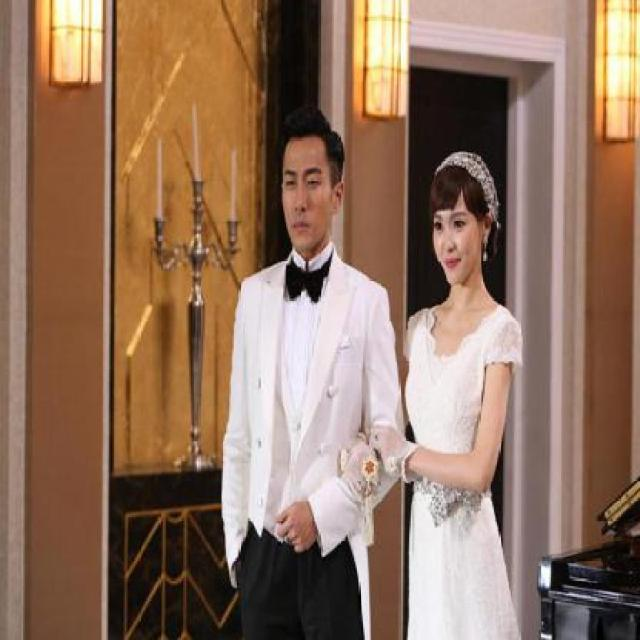Person: (225, 97, 386, 638), (400, 141, 522, 639)
